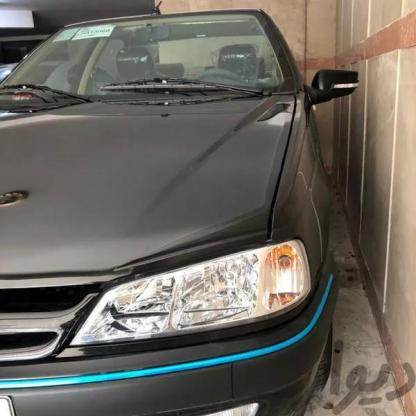Car: (0, 0, 390, 416)
